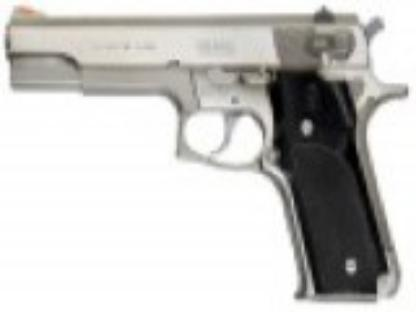pistol: (0, 0, 397, 297)
